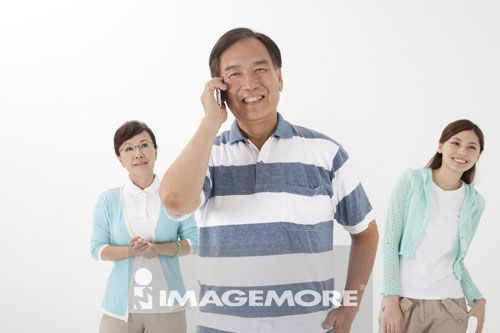talk: (196, 56, 276, 137)
